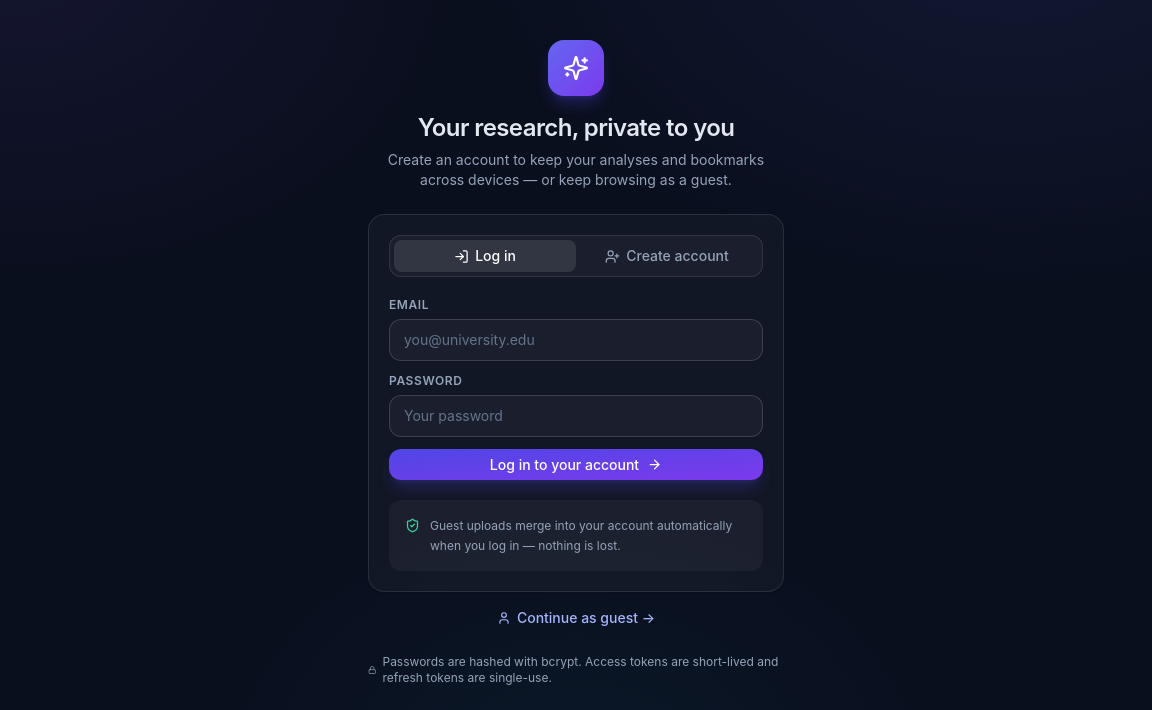
Test: auth form › shows a live password strength meter and blocks a weak password
// Switch to the register tab.
Click the button "Create account" at (667, 256), box [576,240,758,272]
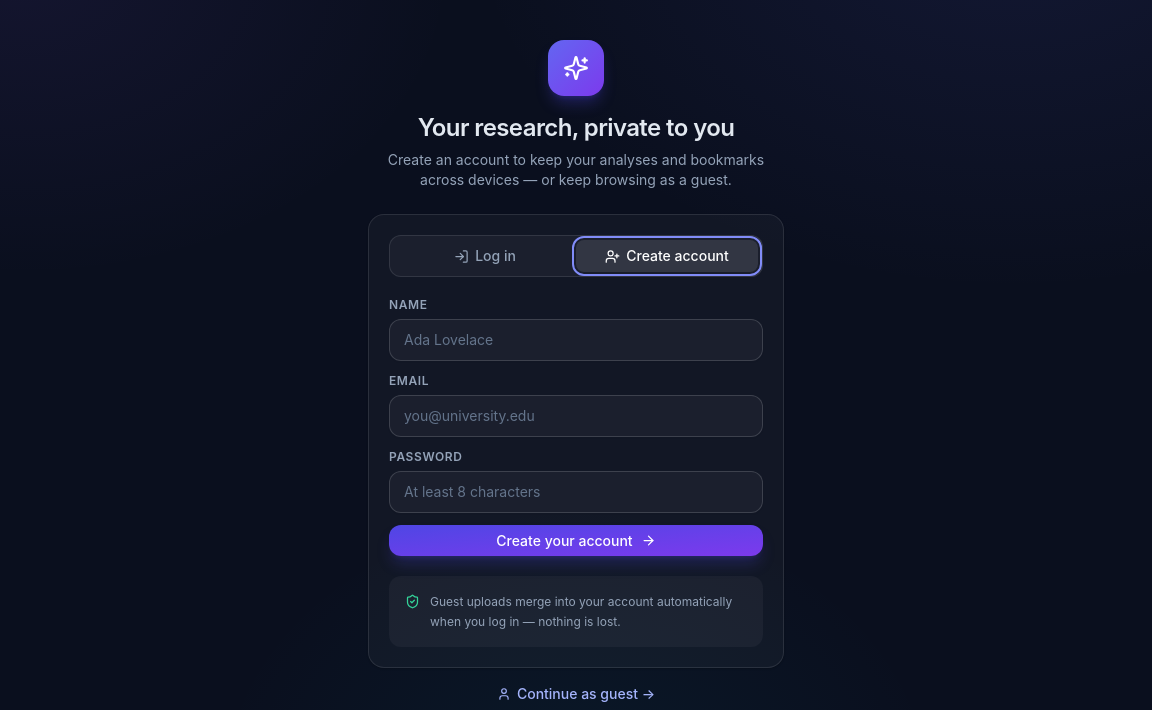
Type "ada@example.com" into the field labelled "Email" at (576, 416), box [389,395,763,437]
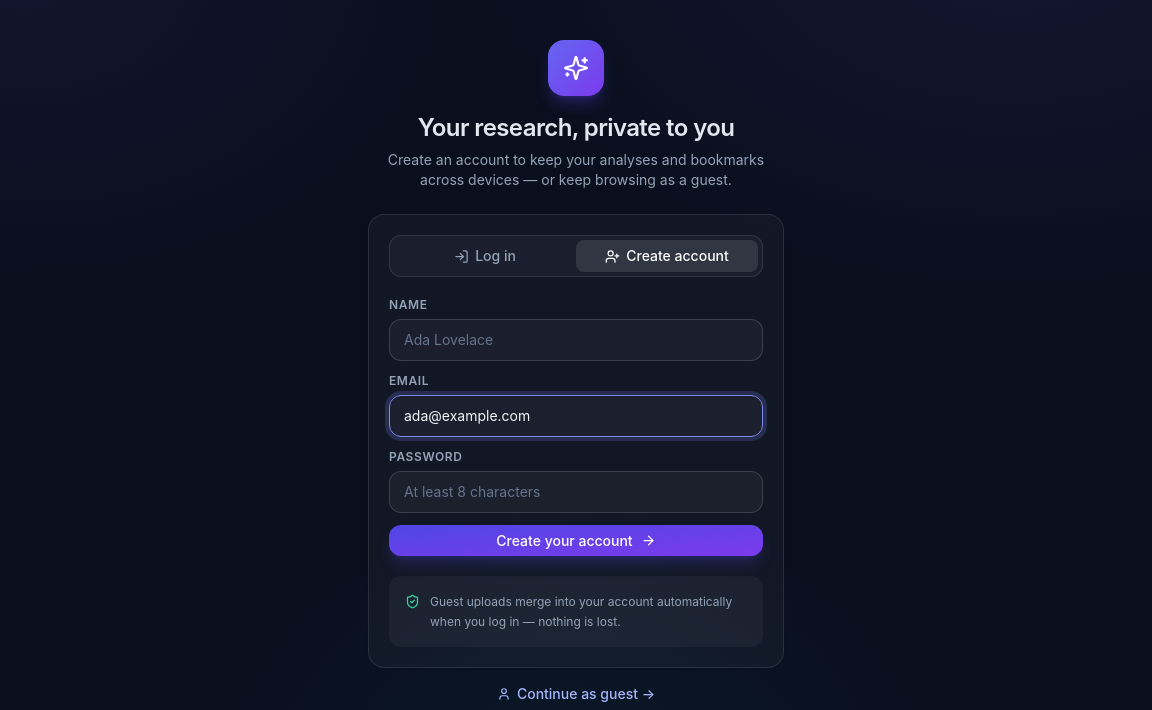
Type "abc" into the password field labelled "Password" at (576, 492), box [389,471,763,513]
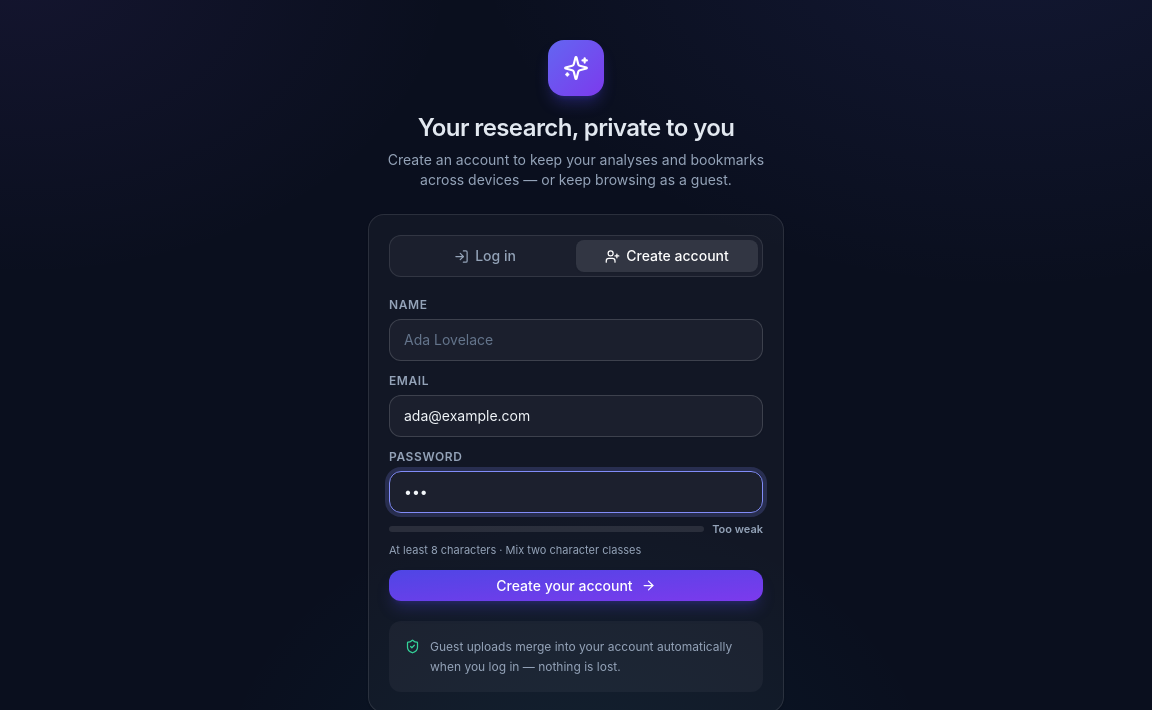
Now the text "Too weak" is shown, box [712,521,763,538]
Type "Str0ng!Passphrase" into the password field labelled "Password" at (576, 492), box [389,471,763,513]
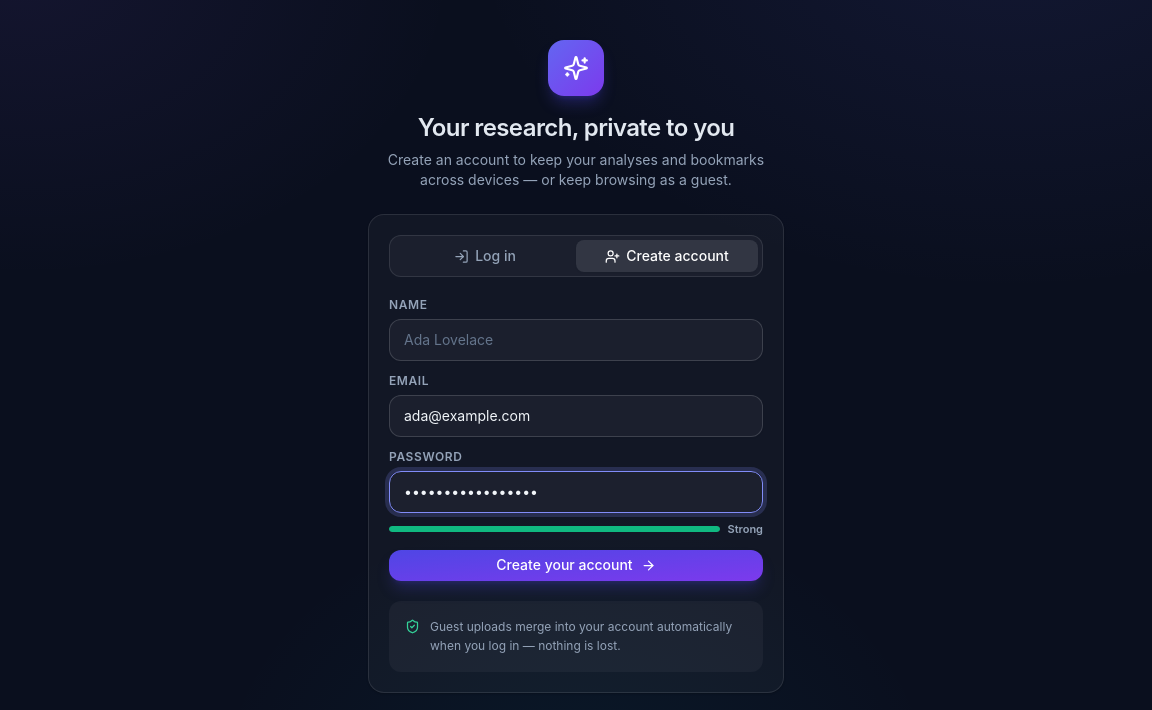
Now the text "Strong" is shown, box [728,521,763,538]
